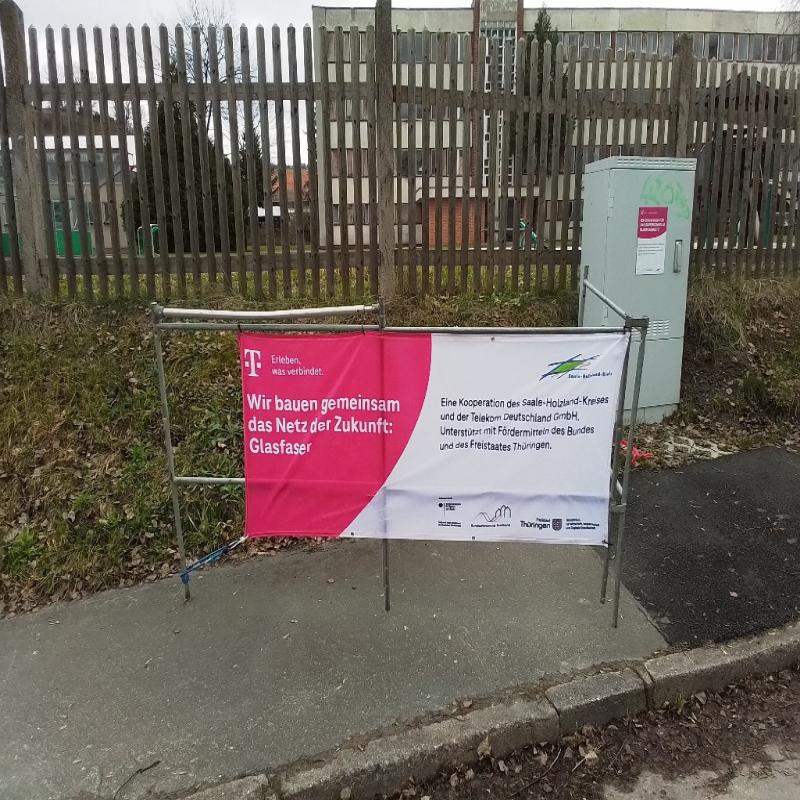Banner: (237, 332, 631, 544)
